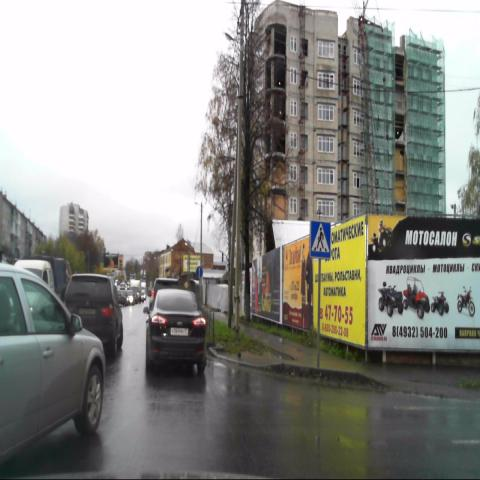5_19_1: (310, 220, 331, 258)
